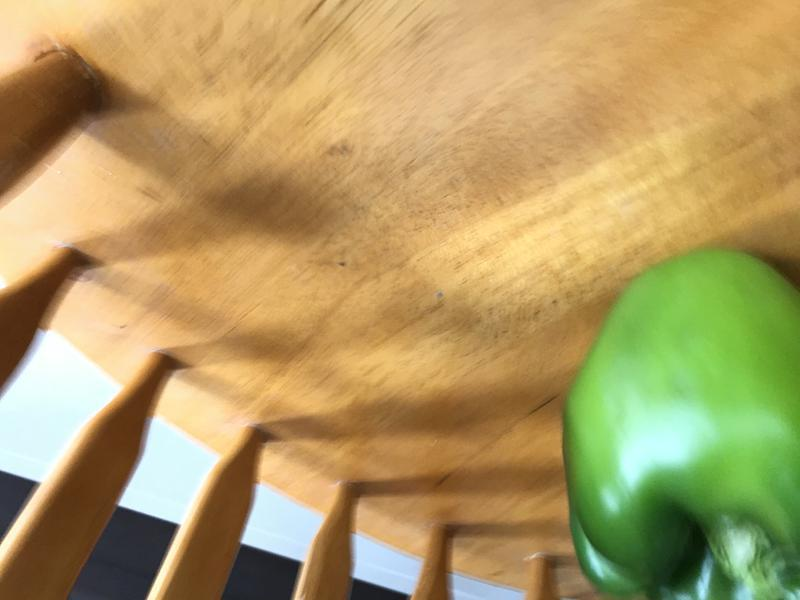green_pepper: (554, 238, 800, 596)
